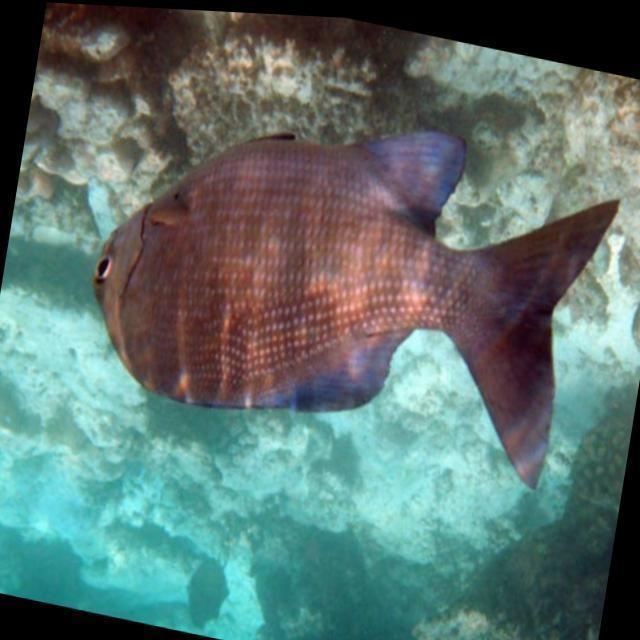Dead Coral: (16, 1, 219, 225)
